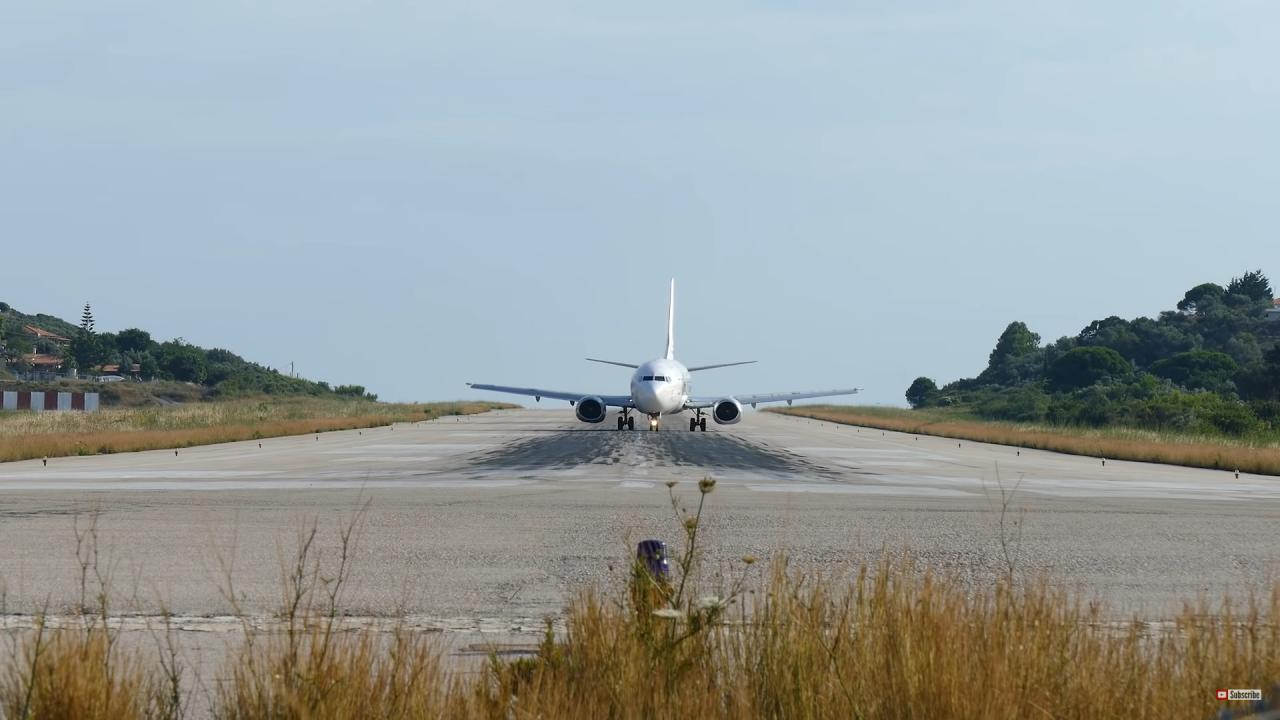Airplane: (454, 267, 871, 445)
